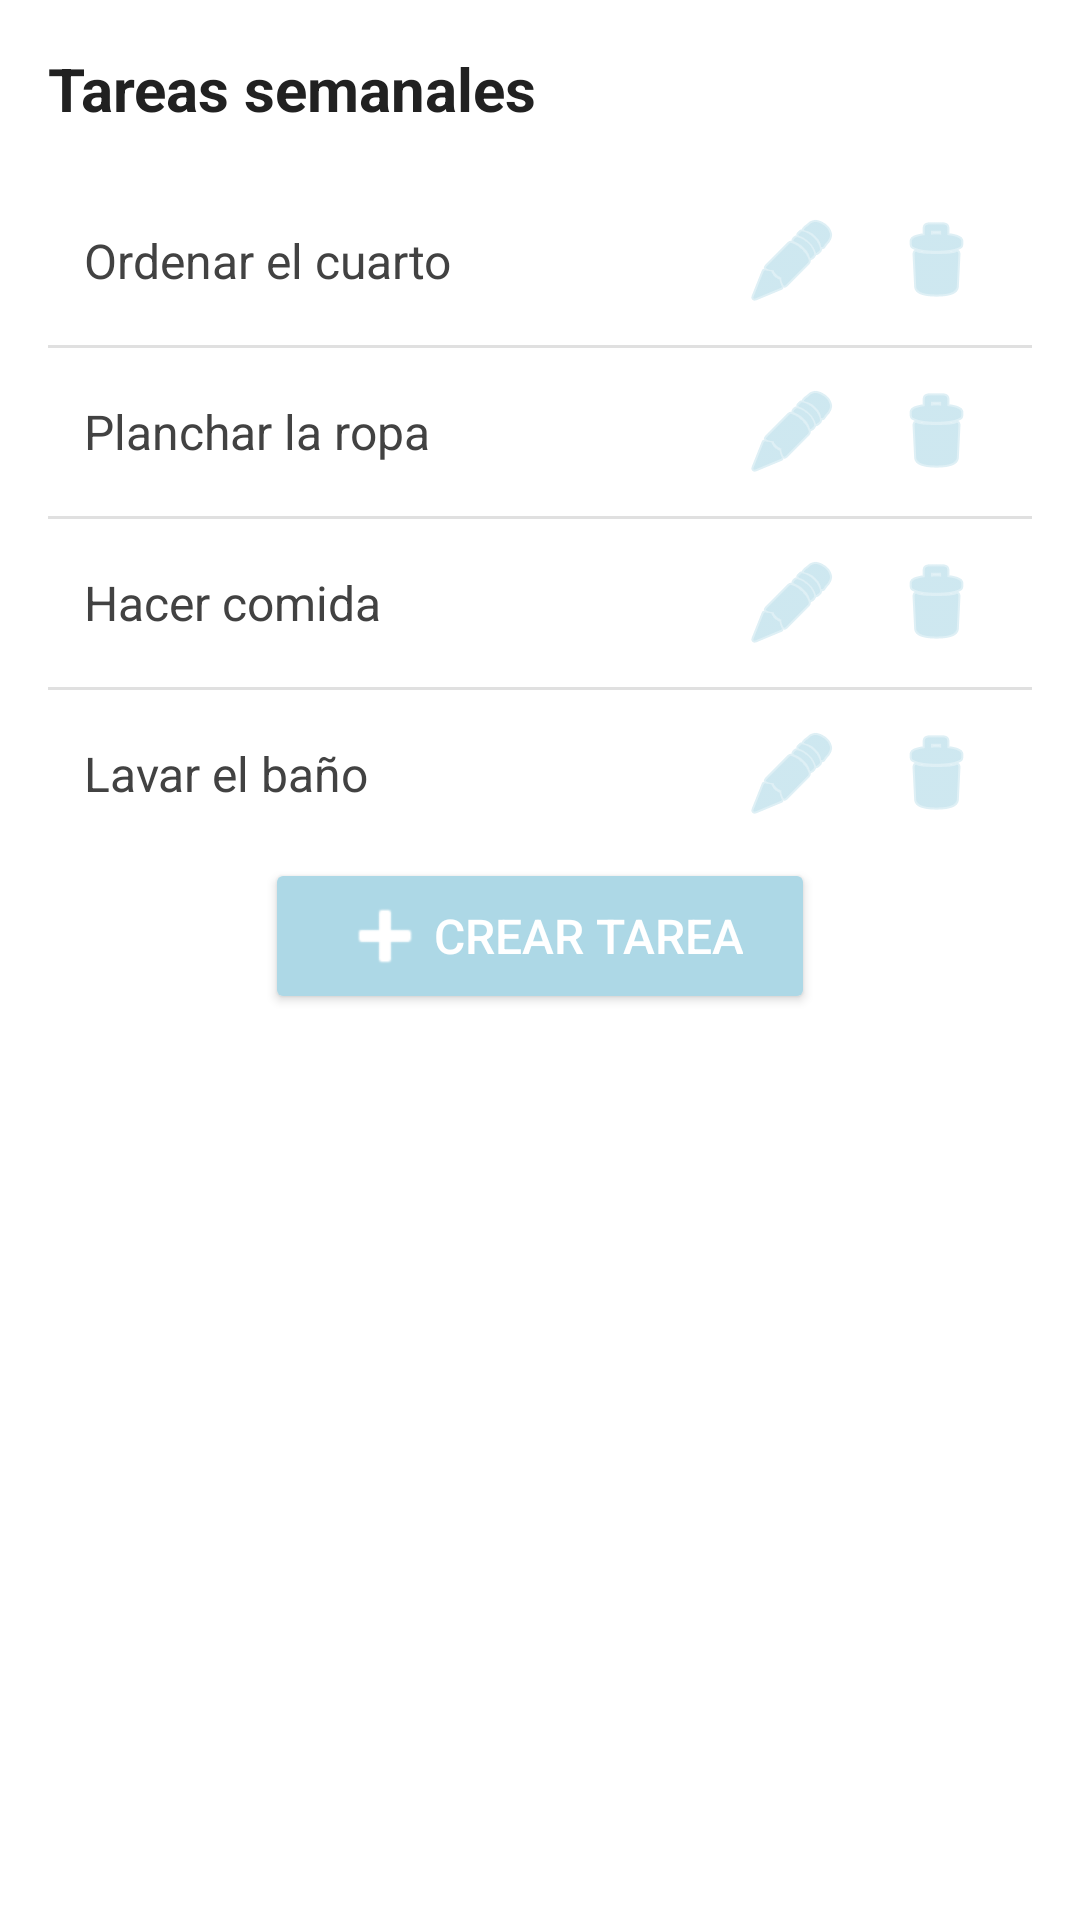

Where icons sit on this 1080×1920 app screen, as (x1, y1, x2, y2):
edit: (752, 220, 832, 300), (752, 391, 832, 471), (752, 562, 832, 642), (752, 733, 832, 813)
